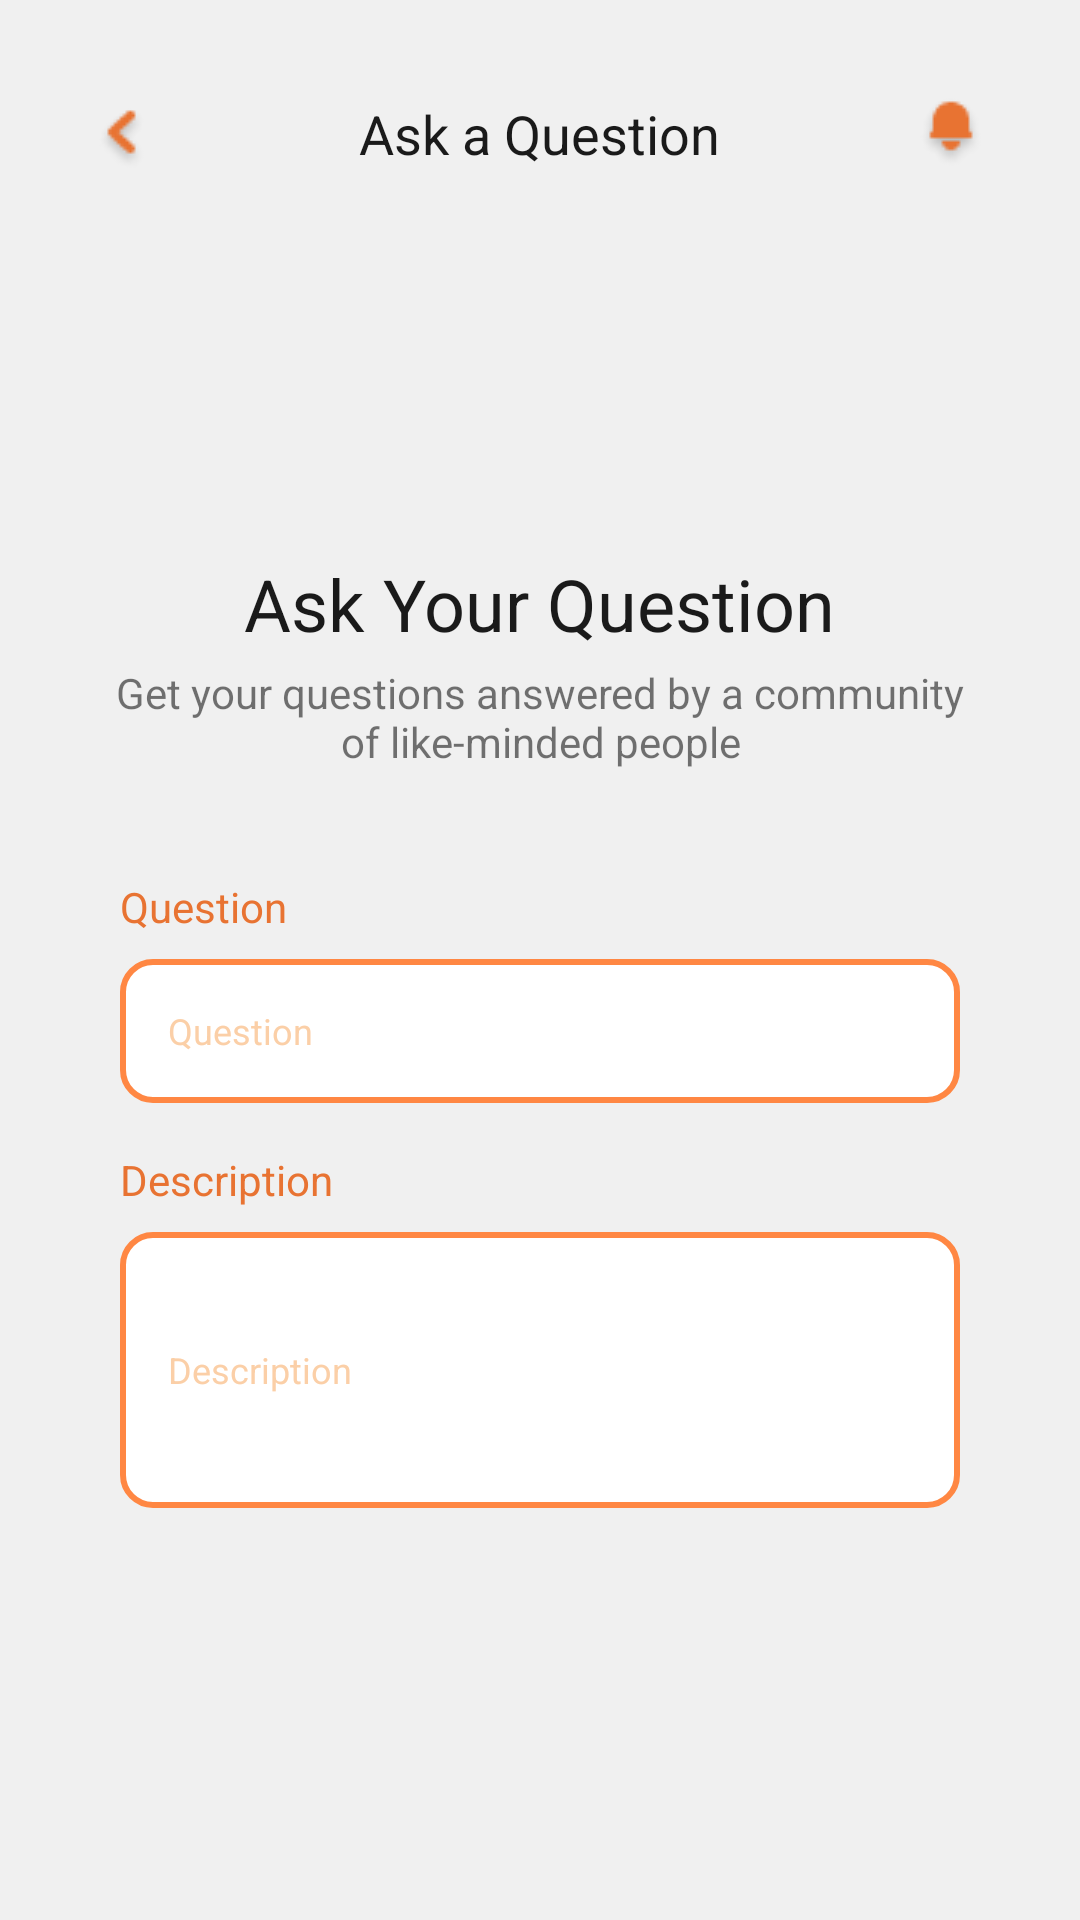

Point at icon controls on the screen. Image size 1080w x 1920h, points as point (x, y).
back: point (121, 133)
notify: point (951, 127)
